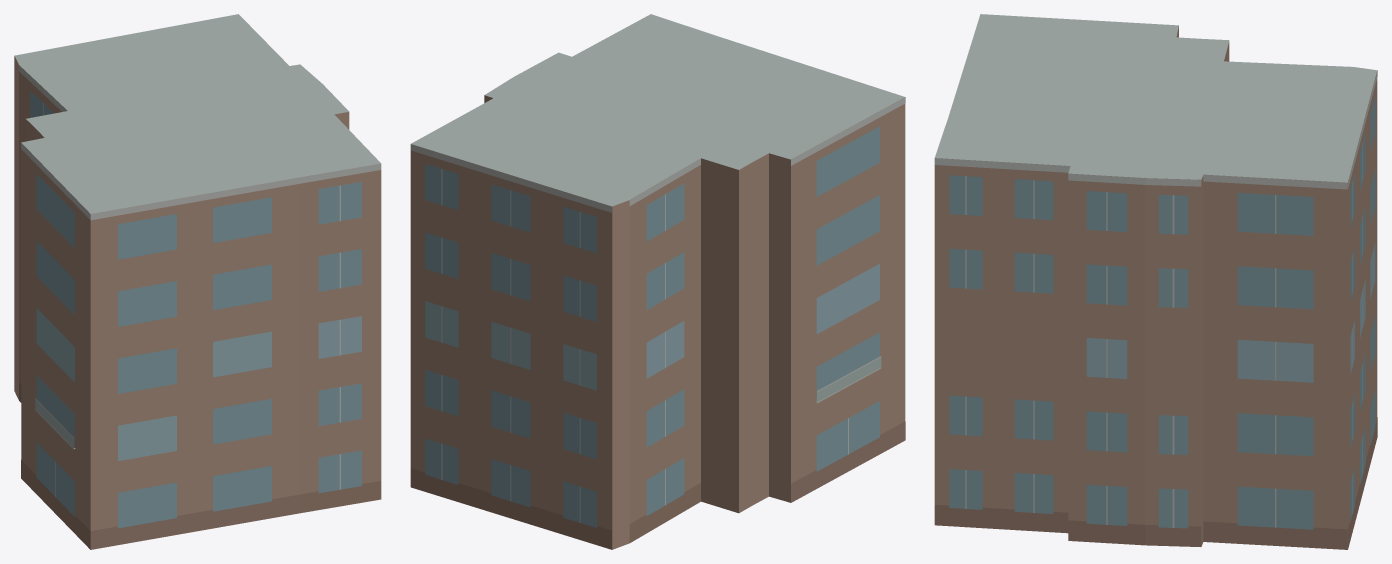
The model's file is survey-upis-32632416.glb.
The picture shows the model from 3 angles, left to right: view 1: azimuth 30°, elevation 25°; view 2: azimuth 150°, elevation 25°; view 3: azimuth 270°, elevation 25°; orthographic projection. The views are drawn at different scales.
Visible parts, largest first — view 1: survey-upis-32632416.tmp; view 2: survey-upis-32632416.tmp; view 3: survey-upis-32632416.tmp.
Boxes of the visible parts, x1,y1,x2,y2 form: survey-upis-32632416.tmp: (14,14,381,549); survey-upis-32632416.tmp: (410,14,905,549); survey-upis-32632416.tmp: (934,14,1377,549).
Bounding box in the file's own units: 12.81 × 13 × 14.21.
